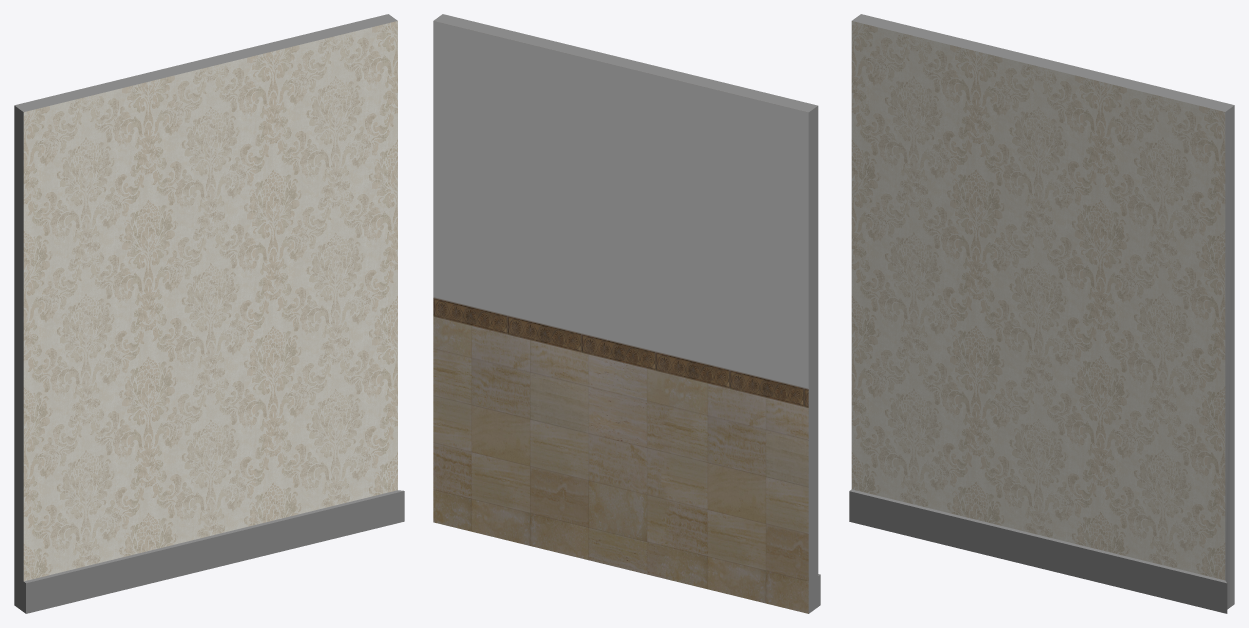
Rendered from Wall 2.FBX.
3 views of the same model, side by side, from view 1: azimuth 30°, elevation 25°; view 2: azimuth 150°, elevation 25°; view 3: azimuth 330°, elevation 25° (orthographic).
Visible parts, largest first — view 1: Wall 2; view 2: Wall 2; view 3: Wall 2.
Part boxes in pixels (x1,y1,x2,y2): Wall 2: [14, 14, 404, 613]; Wall 2: [433, 14, 820, 613]; Wall 2: [849, 14, 1234, 613].
Size of the model in its own units: 207 by 261 by 11.22.
4 materials, 2 textured.
